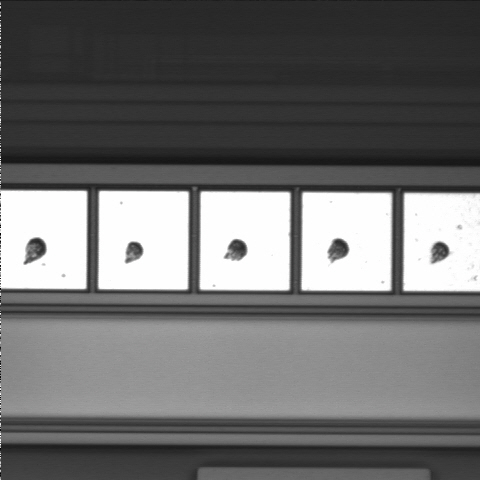pad: (98, 191, 189, 290), (200, 192, 290, 290), (302, 193, 392, 291)
